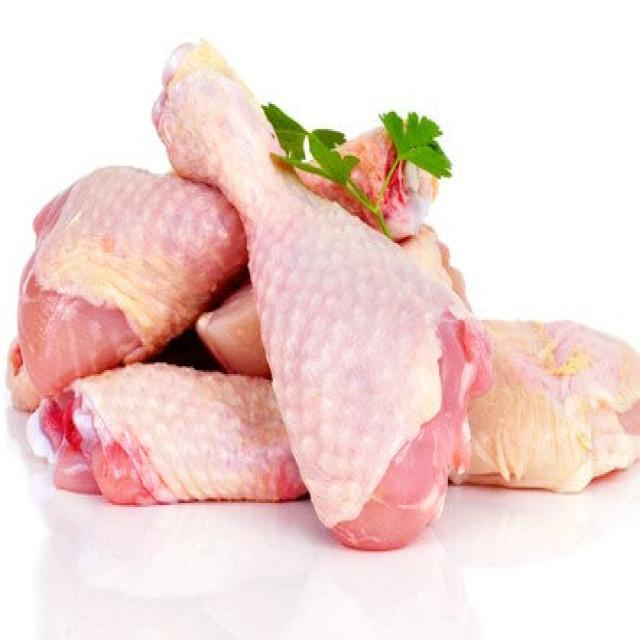leg: (160, 34, 479, 557), (0, 103, 480, 388)
